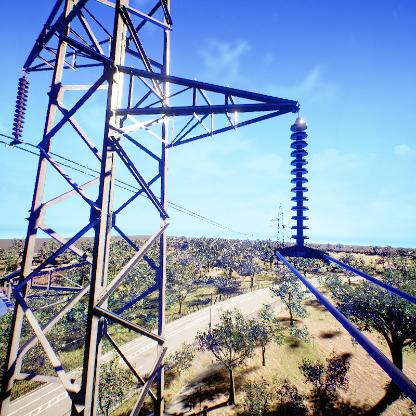insulator: (288, 121, 310, 244), (11, 76, 30, 138)
